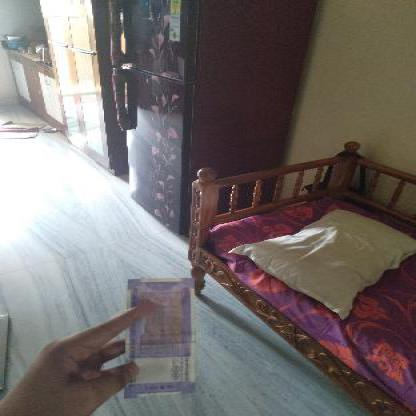New100Back: (126, 276, 198, 398)
